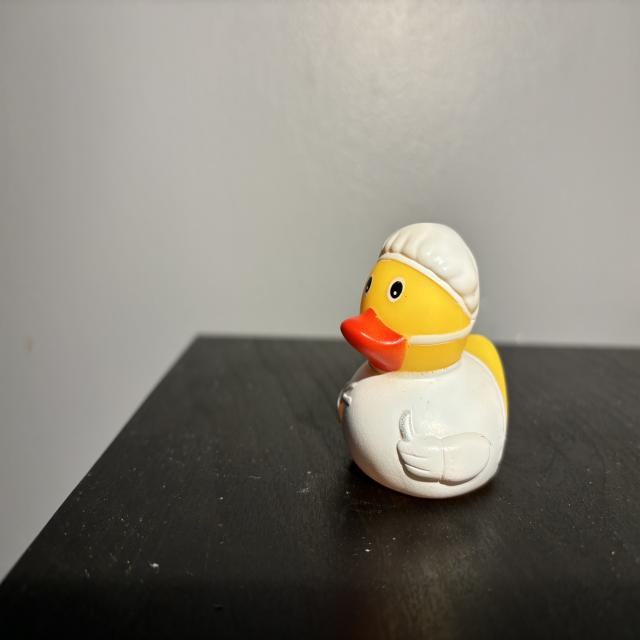duck_specialty: (338, 223, 510, 499)
